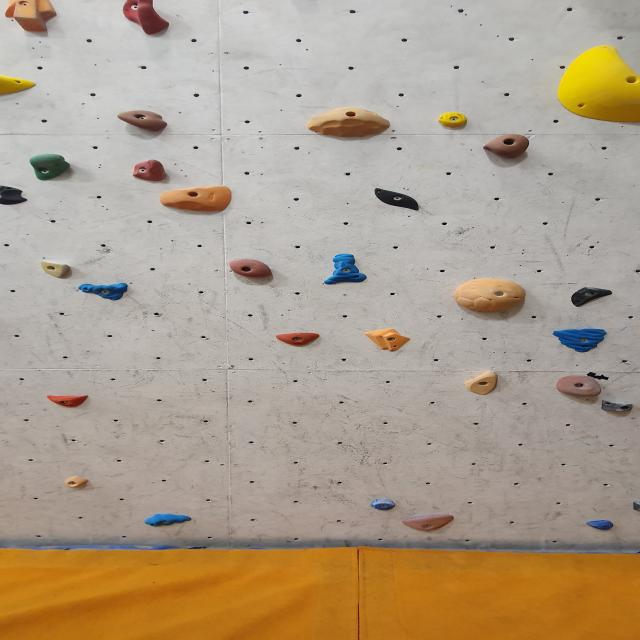Crimp: (550, 329, 608, 353), (400, 515, 455, 533), (76, 283, 130, 300), (34, 262, 74, 282), (274, 334, 325, 348), (142, 514, 193, 528), (43, 394, 94, 407), (436, 111, 472, 129), (62, 477, 91, 490), (586, 520, 616, 532), (368, 499, 396, 511), (631, 500, 640, 510)
Jug: (118, 0, 172, 36), (480, 132, 534, 160), (114, 109, 173, 132), (26, 155, 76, 182), (553, 376, 603, 398), (227, 260, 277, 281), (130, 161, 170, 184)
Pinch: (6, 0, 61, 35), (322, 252, 370, 285), (465, 370, 503, 393), (601, 401, 638, 414)
Sloper: (554, 44, 638, 123), (302, 108, 394, 140), (452, 278, 529, 314), (156, 187, 235, 215), (365, 328, 418, 350), (371, 190, 426, 211), (0, 72, 39, 100), (574, 285, 614, 308), (0, 184, 30, 204)
